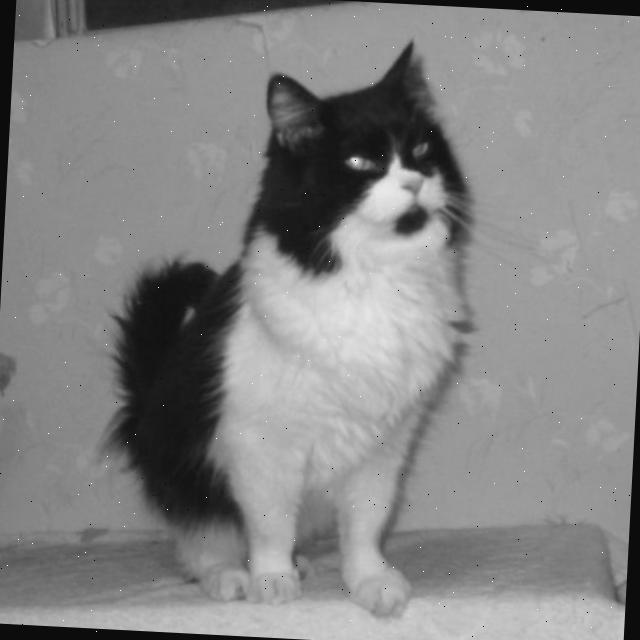maine_coon_cat: (240, 31, 500, 294)
